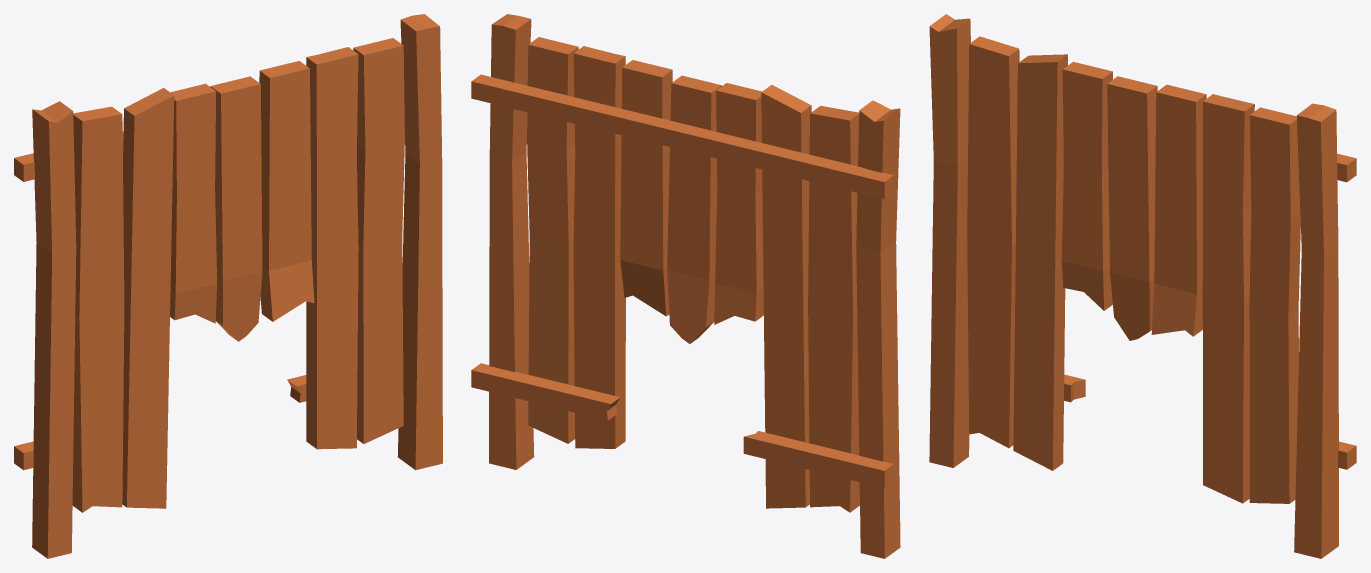
File: Wood Fence 4.glb
The picture shows the model from 3 angles, left to right: view 1: azimuth 30°, elevation 25°; view 2: azimuth 150°, elevation 25°; view 3: azimuth 330°, elevation 25°; orthographic projection.
Parts seen in each view (by area): view 1: WoodFence4; view 2: WoodFence4; view 3: WoodFence4.
Part boxes in pixels (left/top/right/bottom): WoodFence4: left=14, top=14, right=442, bottom=558; WoodFence4: left=471, top=14, right=900, bottom=558; WoodFence4: left=929, top=14, right=1356, bottom=558.
Size of the model in its own units: 2 by 2.04 by 0.2179.
